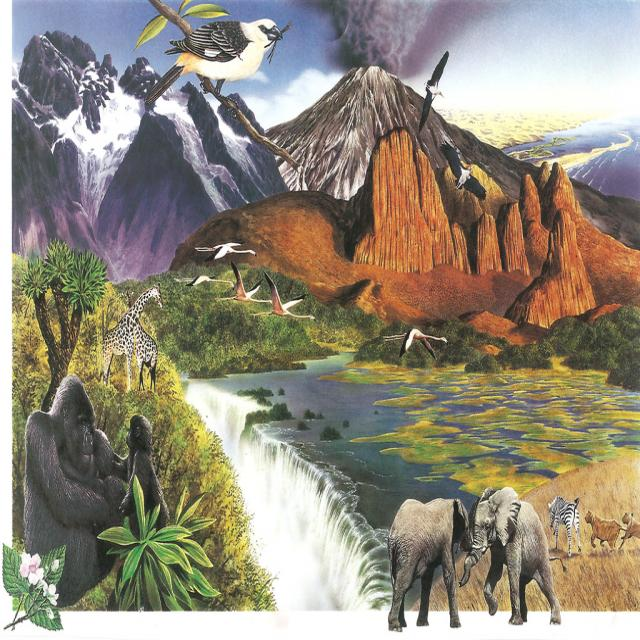elephant: (472, 501, 561, 629), (390, 494, 469, 628)
